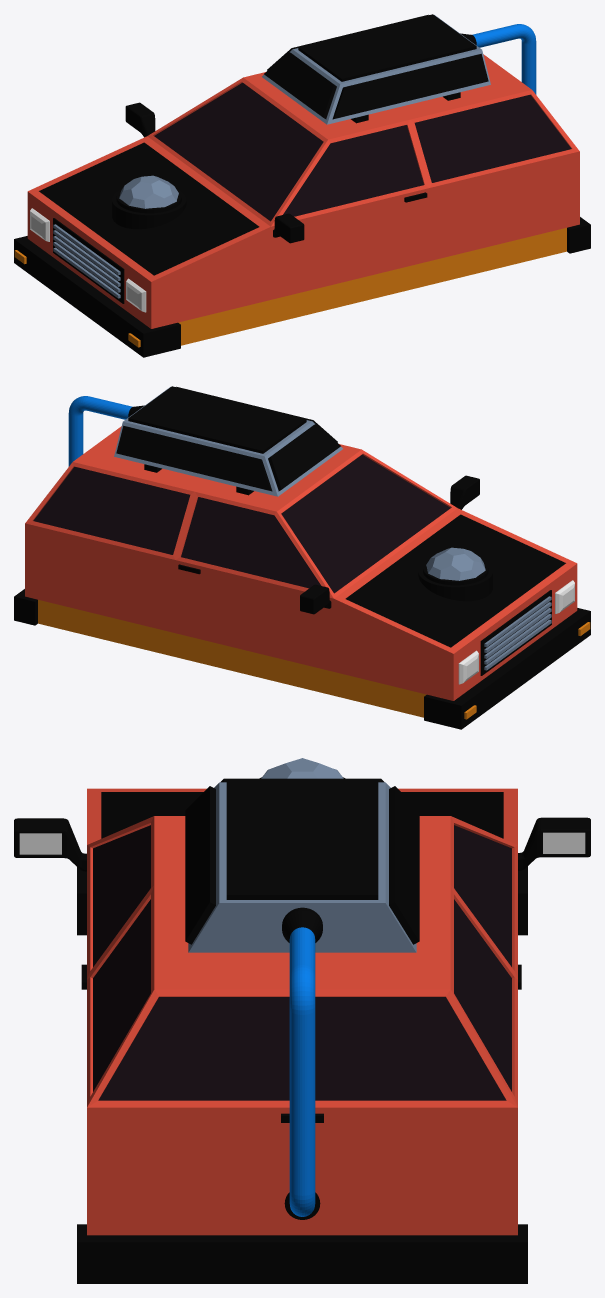
The model's file is station_wagon_body.fbx.
3 renders of one model, top to bottom at view 1: azimuth 30°, elevation 25°; view 2: azimuth 150°, elevation 25°; view 3: azimuth 270°, elevation 25°, orthographic. The views are drawn at different scales.
Parts seen in each view (by area): view 1: Station Wagon Body, top tank, grill panel struts.002, tank pipe, crystal holder, energy ball, mirrors, grill plate, headlights; view 2: Station Wagon Body, top tank, grill panel struts.002, tank pipe, crystal holder, energy ball, mirrors, grill plate, headlights; view 3: Station Wagon Body, top tank, tank pipe, mirrors, energy ball.
Boxes of the visible parts, box(x1,y1,x2,y2) form: Station Wagon Body: box(14, 54, 590, 357); top tank: box(262, 14, 490, 124); grill panel struts.002: box(53, 224, 120, 298); tank pipe: box(460, 24, 536, 94); crystal holder: box(112, 188, 186, 229); energy ball: box(119, 175, 178, 208); mirrors: box(125, 102, 304, 243); grill plate: box(53, 218, 124, 303); headlights: box(30, 208, 146, 312); Station Wagon Body: box(14, 426, 590, 729); top tank: box(114, 386, 342, 496); grill panel struts.002: box(484, 596, 551, 670); tank pipe: box(68, 396, 144, 466); crystal holder: box(418, 560, 492, 601); energy ball: box(426, 547, 485, 580); mirrors: box(300, 475, 479, 614); grill plate: box(480, 590, 551, 675); headlights: box(458, 580, 574, 684); Station Wagon Body: box(77, 788, 527, 1283); top tank: box(185, 778, 419, 952); tank pipe: box(282, 907, 322, 1216); mirrors: box(14, 817, 590, 871); energy ball: box(261, 758, 343, 778).
Size of the model in its own units: 642 by 402 by 252.
